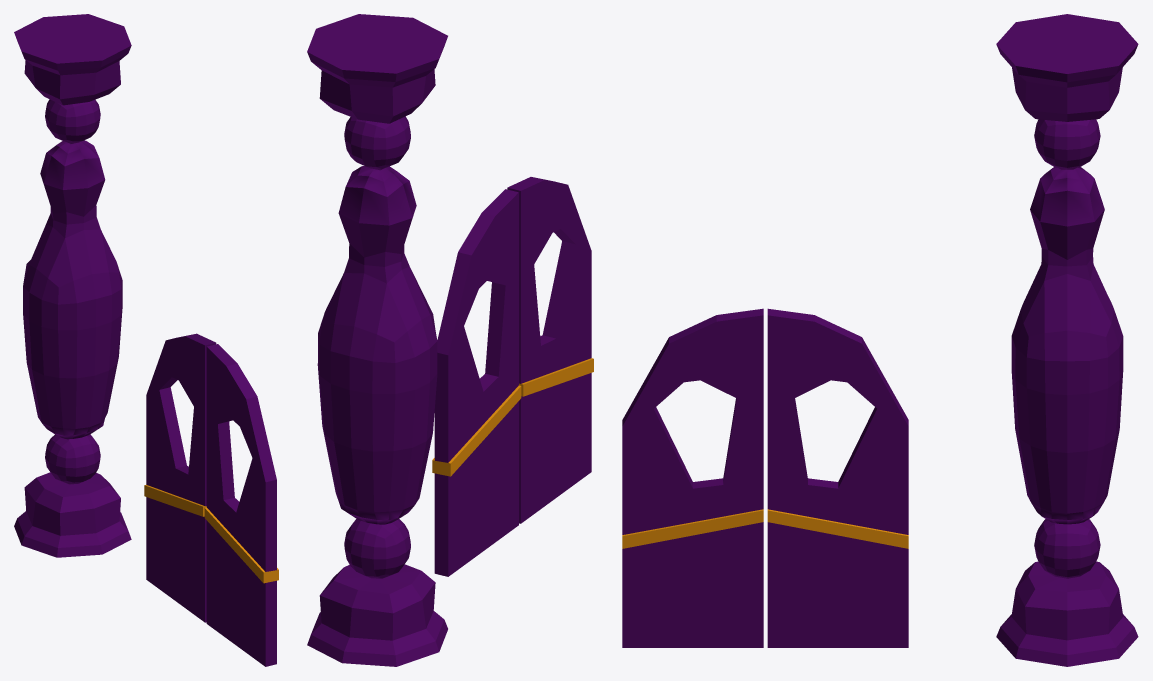
File: alley_door.fbx
3 views of the same model, side by side, from view 1: azimuth 30°, elevation 25°; view 2: azimuth 150°, elevation 25°; view 3: azimuth 270°, elevation 25° (orthographic). The views are drawn at different scales.
Visible parts, largest first — view 1: Pillars_1, alley_door_left, alley_door_right; view 2: Pillars_1, alley_door_right, alley_door_left; view 3: Pillars_1, alley_door_right, alley_door_left.
Boxes of the visible parts, x1=… form: Pillars_1: x1=14, y1=14, x2=131, y2=557; alley_door_left: x1=204, y1=344, x2=278, y2=666; alley_door_right: x1=144, y1=333, x2=216, y2=622; Pillars_1: x1=307, y1=14, x2=447, y2=666; alley_door_right: x1=432, y1=189, x2=521, y2=576; alley_door_left: x1=507, y1=177, x2=593, y2=523; Pillars_1: x1=996, y1=14, x2=1138, y2=666; alley_door_right: x1=767, y1=308, x2=908, y2=647; alley_door_left: x1=622, y1=308, x2=763, y2=647.
Size of the model in its own units: 1.75 by 6.33 by 8.03.
